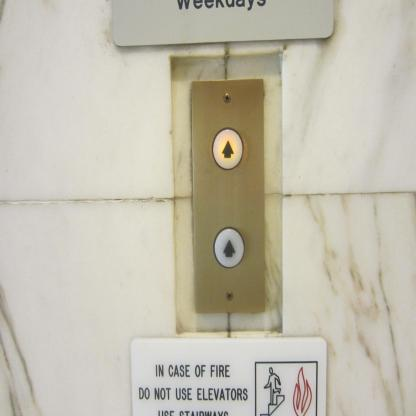down: (212, 226, 244, 269)
up: (212, 127, 245, 170)
